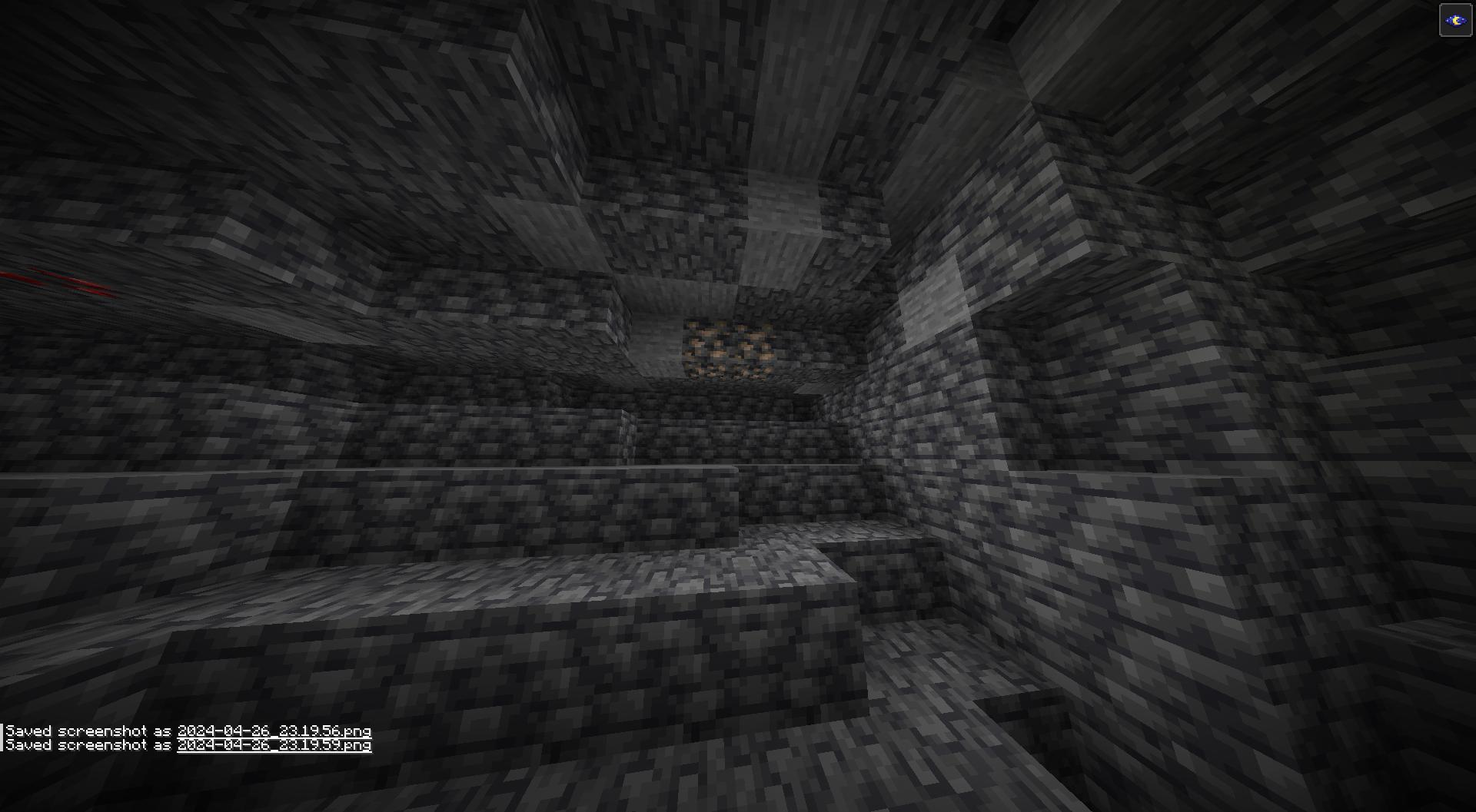iron ore: (730, 320, 775, 378), (685, 315, 727, 371)
